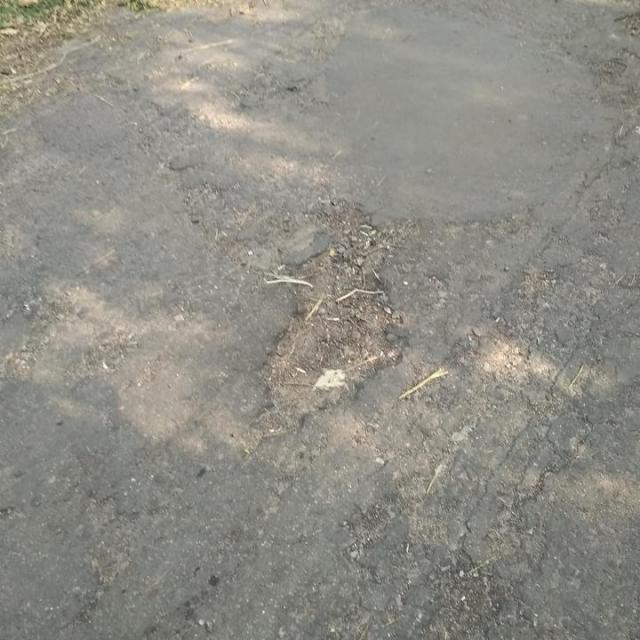pothole: (245, 197, 415, 442)
